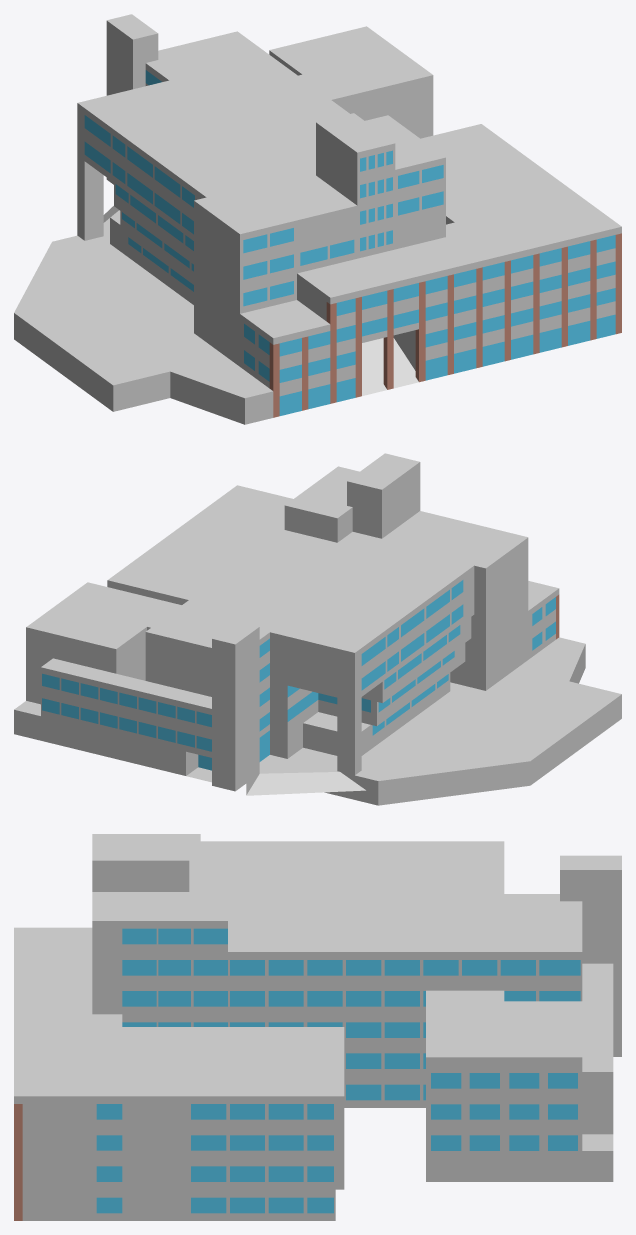
Rendered from BiMa.glb.
The picture shows the model from 3 angles, top to bottom: view 1: azimuth 30°, elevation 25°; view 2: azimuth 150°, elevation 25°; view 3: azimuth 270°, elevation 25°; orthographic projection. The views are drawn at different scales.
Visible parts, largest first — view 1: Main, Window, Pillars; view 2: Main, Window; view 3: Main, Window, Pillars.
Boxes of the visible parts, <box> form: Main: <box>14,14,621,424</box>; Window: <box>84,70,615,415</box>; Pillars: <box>269,233,621,417</box>; Main: <box>14,453,621,805</box>; Window: <box>42,580,555,770</box>; Main: <box>14,834,621,1220</box>; Window: <box>96,928,580,1213</box>; Pillars: <box>14,1104,22,1220</box>.
Bounding box in the file's own units: 73 × 32 × 70.7.
